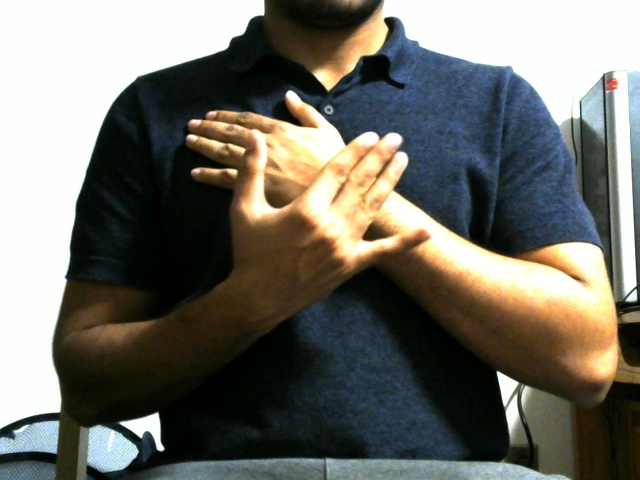blood: (158, 71, 481, 312)
